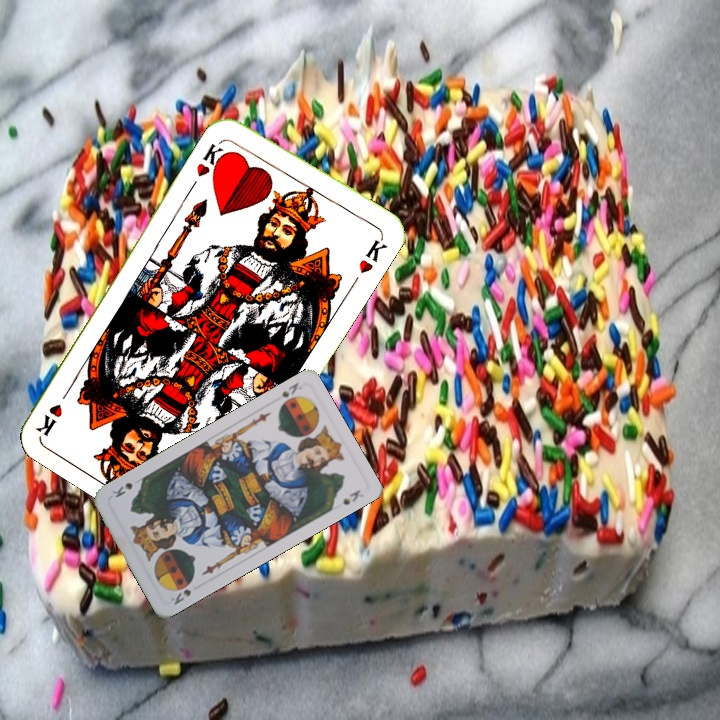HK: (192, 135, 231, 180)
SK: (166, 585, 194, 608), (278, 378, 305, 400)
